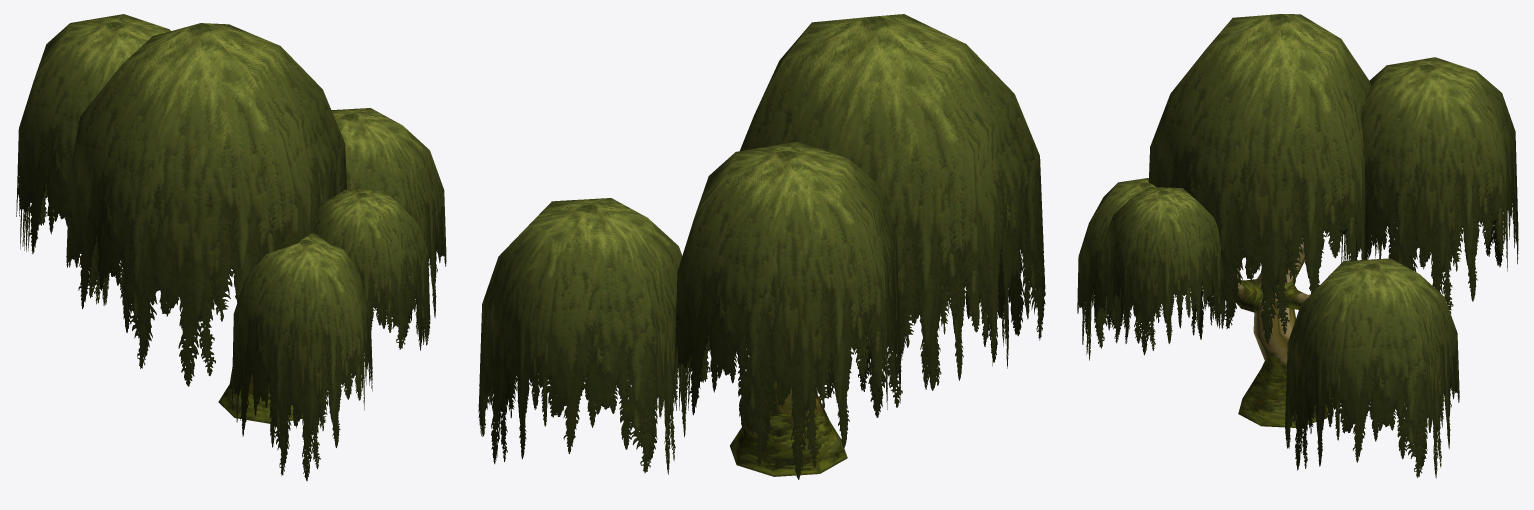
File: Tree_10.fbx
The picture shows the model from 3 angles, left to right: view 1: azimuth 30°, elevation 25°; view 2: azimuth 150°, elevation 25°; view 3: azimuth 270°, elevation 25°; orthographic projection. The views are drawn at different scales.
Visible parts, largest first — view 1: Tree_Top_01, Tree_Trunk_10; view 2: Tree_Top_01, Tree_Trunk_10; view 3: Tree_Top_01, Tree_Trunk_10.
Part boxes in pixels (x1=…): Tree_Top_01: x1=16, y1=14, x2=446, y2=480; Tree_Trunk_10: x1=218, y1=367, x2=302, y2=423; Tree_Top_01: x1=478, y1=14, x2=1045, y2=479; Tree_Trunk_10: x1=730, y1=380, x2=847, y2=476; Tree_Top_01: x1=1077, y1=14, x2=1518, y2=478; Tree_Trunk_10: x1=1235, y1=238, x2=1328, y2=427.
Size of the model in its own units: 10.67 by 10.26 by 11.4.
Materials: 2 (2 with a texture image).
